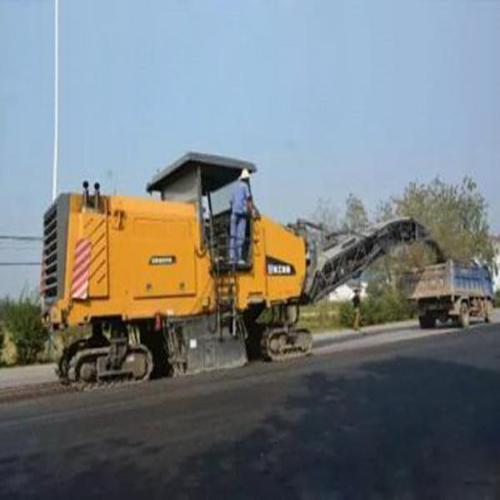con_eq: (39, 139, 430, 386)
